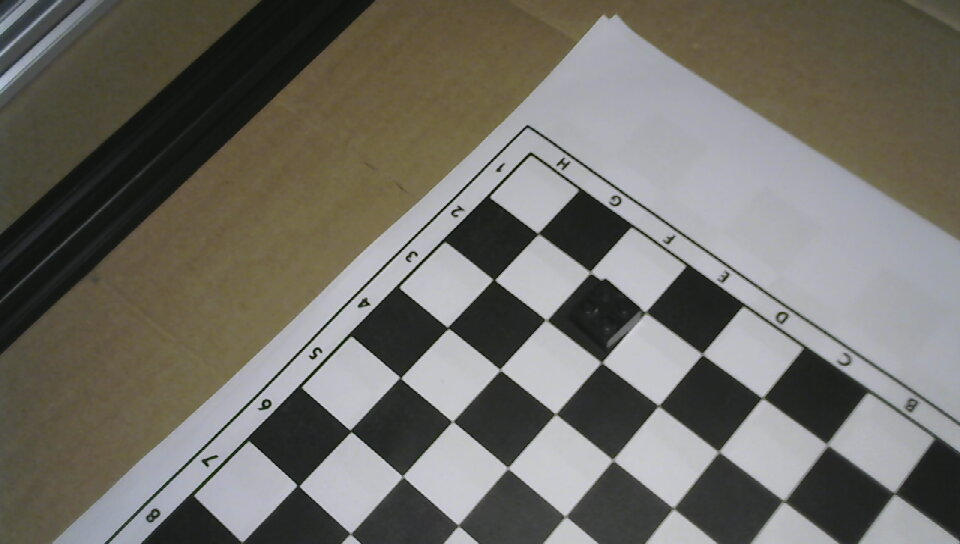bp: (561, 276, 647, 353)
